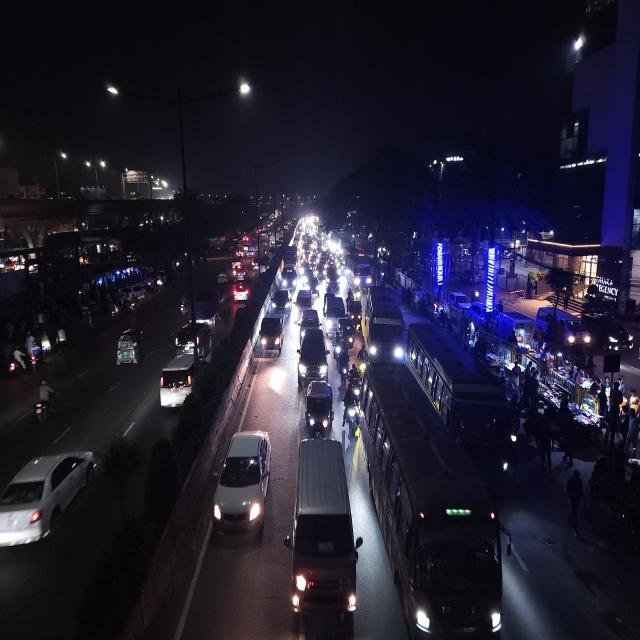bus: (364, 374, 510, 640), (412, 323, 518, 476), (363, 286, 405, 366), (570, 0, 622, 62), (345, 251, 372, 290)
car: (288, 435, 360, 635), (0, 441, 100, 561), (210, 426, 273, 544), (157, 347, 203, 414), (297, 327, 329, 386), (172, 319, 214, 359), (255, 312, 285, 365), (324, 291, 346, 336), (269, 288, 292, 315), (294, 287, 312, 321), (231, 279, 253, 305)
cng: (304, 378, 334, 436), (113, 324, 147, 370), (348, 298, 362, 332), (332, 326, 343, 360), (216, 268, 230, 287)
motorcycle: (31, 378, 59, 426), (343, 378, 361, 440), (4, 344, 26, 379), (349, 358, 361, 405), (357, 344, 368, 381), (178, 294, 188, 318), (346, 286, 354, 302)
pedestrian: (564, 469, 588, 529)
truck: (193, 289, 224, 325), (280, 246, 298, 290)
